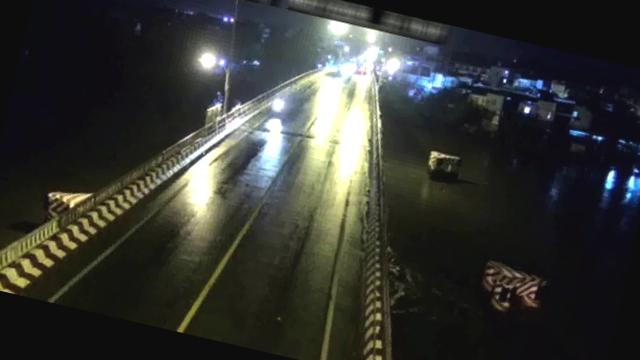Bike: (271, 99, 284, 112)
